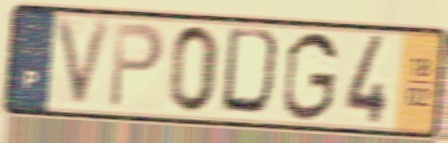0: (164, 24, 227, 117)
4: (342, 31, 391, 130)
D: (218, 24, 288, 122)
G: (280, 28, 341, 125)
P: (106, 19, 168, 112)
V: (51, 12, 118, 114)
